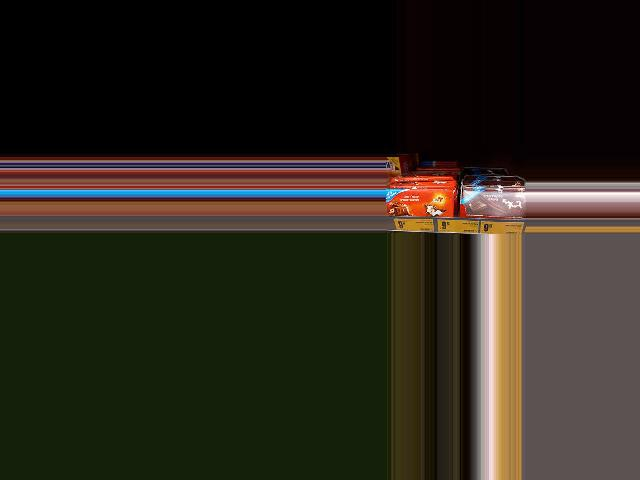chocolate: (466, 186, 526, 224)
